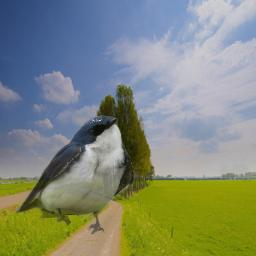Swallow: (15, 115, 135, 235)
